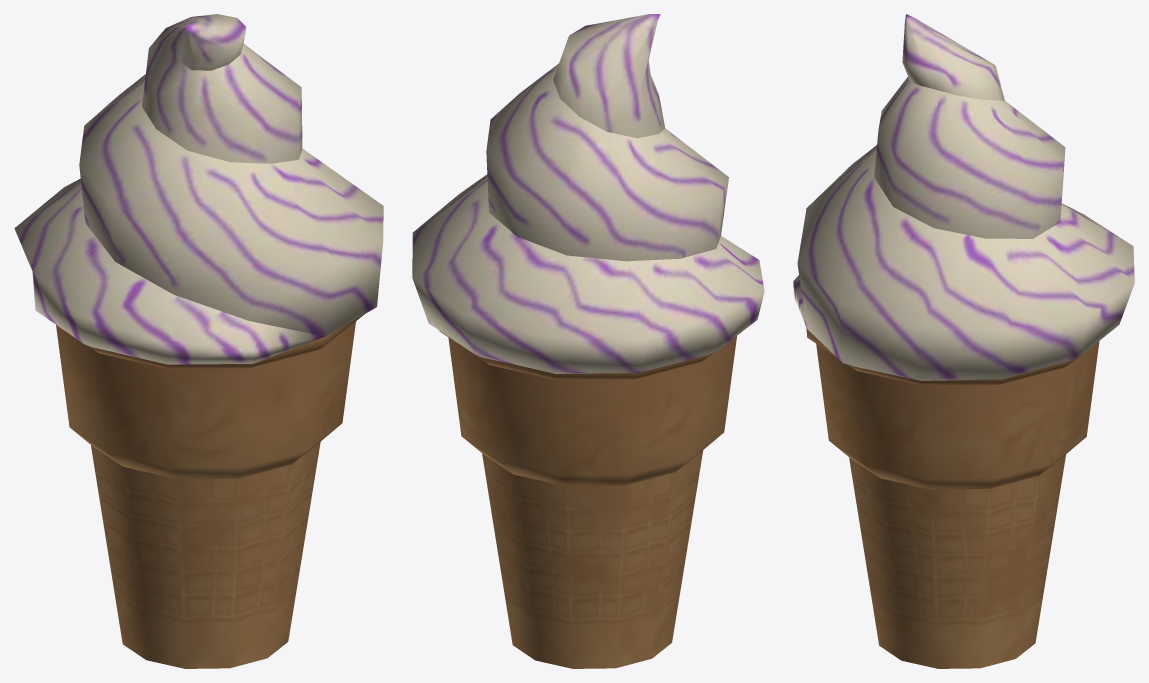
File: decorLarge-candy-47.glb
3 renders of one model, left to right at view 1: azimuth 30°, elevation 25°; view 2: azimuth 150°, elevation 25°; view 3: azimuth 270°, elevation 25°, orthographic. The views are drawn at different scales.
Parts seen in each view (by area): view 1: piece; view 2: piece; view 3: piece.
Part boxes in pixels (left/top/right/bottom): piece: left=14, top=14, right=383, bottom=668; piece: left=412, top=14, right=764, bottom=668; piece: left=793, top=14, right=1134, bottom=668.
Size of the model in its own units: 0.0444 by 0.0867 by 0.0447.
1 material, 1 textured.
